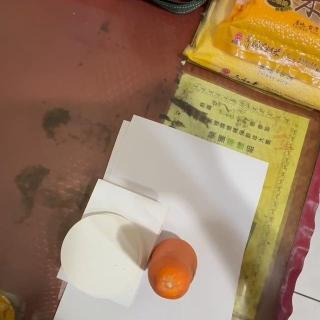carrot: (149, 237, 199, 300)
